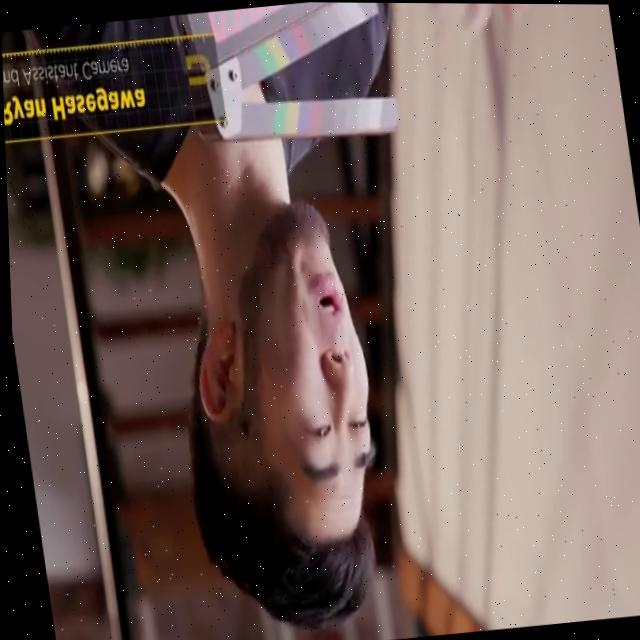Clapperboard: (165, 2, 396, 145)
